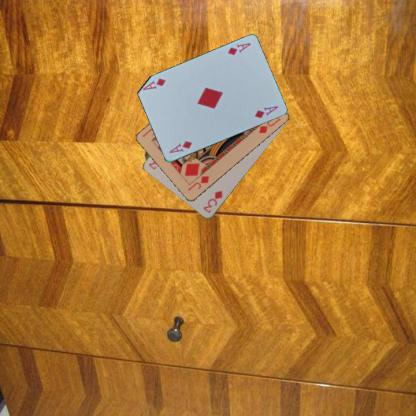3d: (200, 188, 223, 214)
Ad: (166, 138, 193, 155), (225, 40, 252, 57)
Jd: (185, 174, 210, 192)
